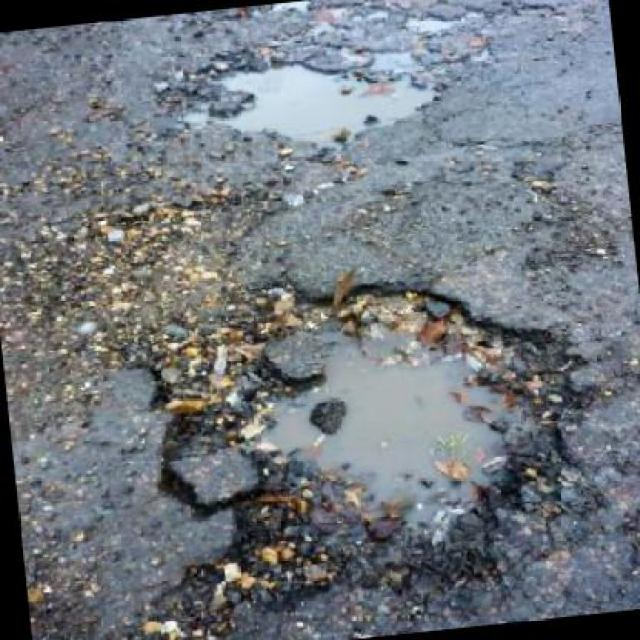pothole1: (116, 262, 618, 636), (153, 30, 455, 162)
